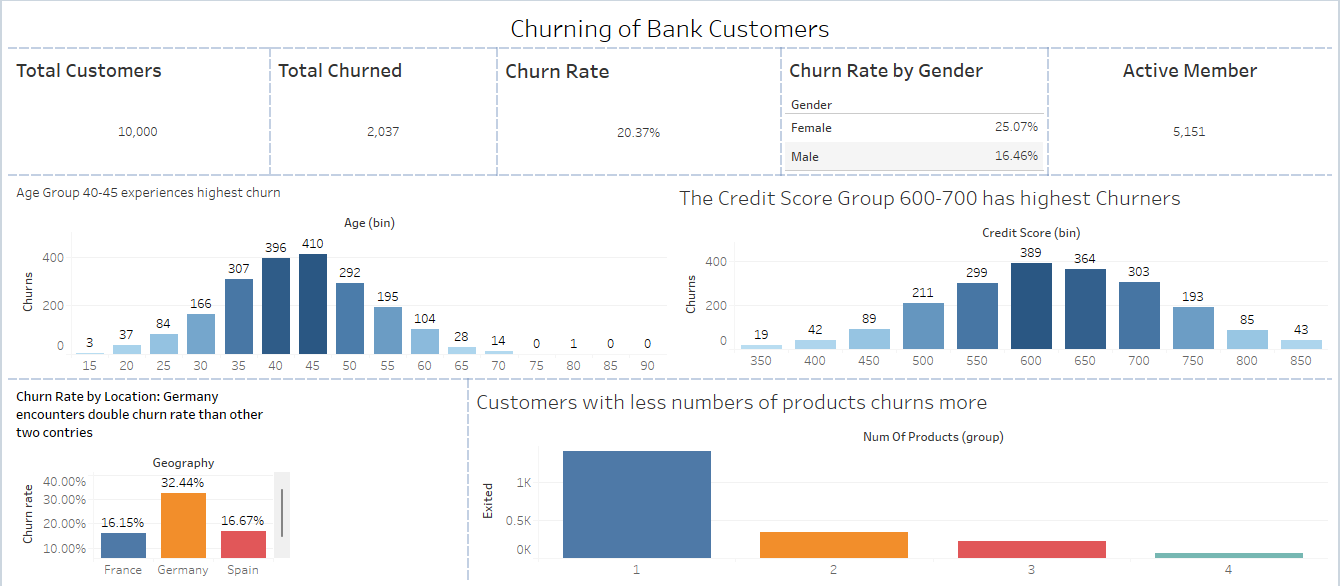

Layout of this report page (visuals, bound fields, positions):
{"tool":"tableau","page":{"name":"Dashboard 1","canvas":[1000,1000],"units":"permille","ordinal":0},"visuals":[{"type":"text","box":[6.9,13.5,986.1,69.3]},{"type":"worksheet","title":"Total Cases","mark":"Automatic","box":[6.9,82.8,194.8,214.5]},{"type":"worksheet","title":"Total Churned","mark":"Automatic","box":[201.7,82.8,169.7,214.5]},{"type":"worksheet","title":"Churn Rate","mark":"Automatic","box":[371.4,82.8,211.2,214.5]},{"type":"worksheet","title":"Churn Rate by Gender","mark":"Automatic","rows":["Gender"],"box":[582.7,82.8,199.1,214.5]},{"type":"worksheet","title":"Active Member","mark":"Automatic","box":[781.8,82.8,211.2,214.5]},{"type":"worksheet","title":"Age Vs Churn","mark":"Automatic","rows":["Calculation_2171016502120153088"],"cols":["Age (bin)"],"box":[6.9,297.3,493.5,344.6]},{"type":"worksheet","title":"Credit Score Vs Churn","mark":"Automatic","rows":["Calculation_2171016502120153088"],"cols":["Credit Score (bin)"],"box":[500.4,297.3,492.6,344.6]},{"type":"worksheet","title":"Churns by location","mark":"Automatic","rows":["Calculation_2171016502138474501"],"cols":["Geography"],"box":[6.9,641.9,342.9,344.6]},{"type":"worksheet","title":"Number of Product Vs Exited","mark":"Automatic","rows":["Exited"],"box":[349.8,641.9,643.3,344.6]}]}

Visuals, with their boxes on the dashboard's canvas, which has no fixed pixel size, in thousandths of its width and height (x1, y1, x2, y2). These are canvas units, not pixel positions in the 1340x586 screenshot, which may show the page scaled, cropped or inside an application window:
text: x1=7, y1=14, x2=993, y2=83
"Total Cases" worksheet: x1=7, y1=83, x2=202, y2=297
"Total Churned" worksheet: x1=202, y1=83, x2=371, y2=297
"Churn Rate" worksheet: x1=371, y1=83, x2=583, y2=297
"Churn Rate by Gender" worksheet: x1=583, y1=83, x2=782, y2=297
"Active Member" worksheet: x1=782, y1=83, x2=993, y2=297
"Age Vs Churn" worksheet: x1=7, y1=297, x2=500, y2=642
"Credit Score Vs Churn" worksheet: x1=500, y1=297, x2=993, y2=642
"Churns by location" worksheet: x1=7, y1=642, x2=350, y2=986
"Number of Product Vs Exited" worksheet: x1=350, y1=642, x2=993, y2=986
